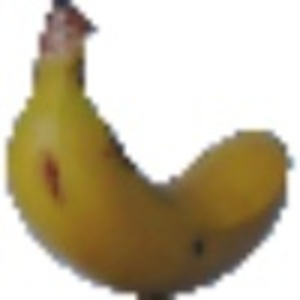banana: (6, 8, 291, 292)
